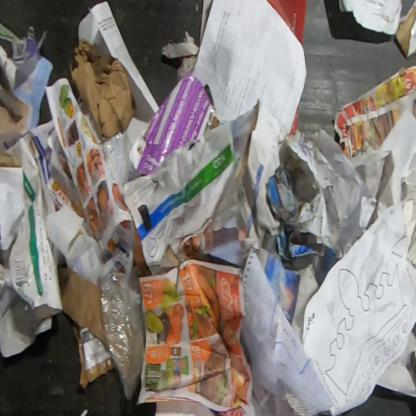cardboard: (127, 70, 216, 176), (58, 265, 115, 392), (68, 36, 138, 138), (160, 0, 214, 84), (338, 0, 416, 58), (0, 42, 34, 168)
soft_plastic: (97, 261, 147, 403), (95, 130, 133, 190)
